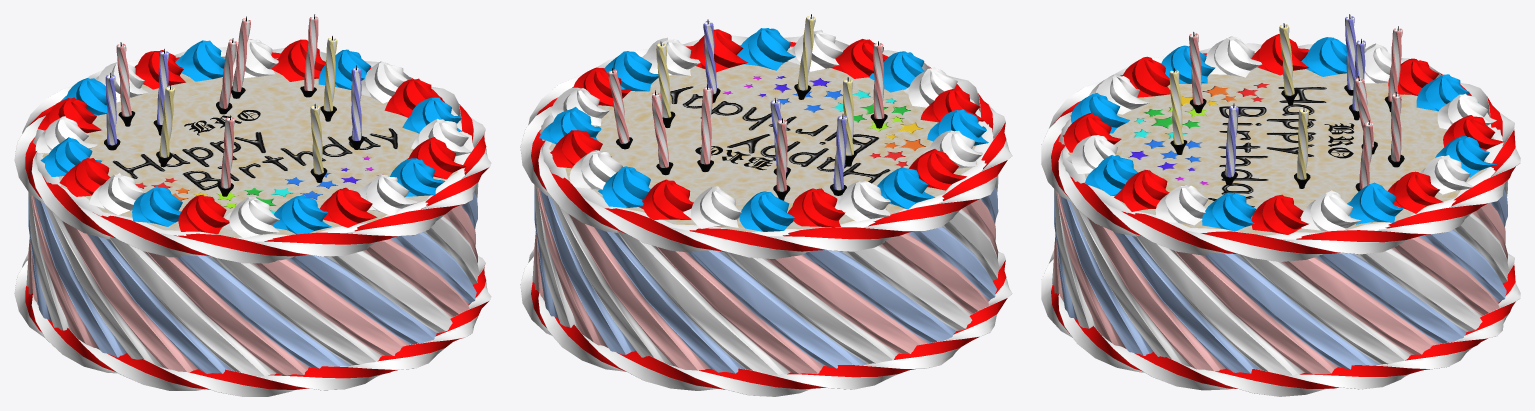
Rendered from bdaycake_uncompressed.gltf.
3 renders of one model, left to right at view 1: azimuth 30°, elevation 25°; view 2: azimuth 150°, elevation 25°; view 3: azimuth 270°, elevation 25°, orthographic. The views are drawn at different scales.
Parts seen in each view (by area): view 1: 10868_birthday-cake_v3; view 2: 10868_birthday-cake_v3; view 3: 10868_birthday-cake_v3.
Part boxes in pixels (bbox=[...]): 10868_birthday-cake_v3: bbox=[14, 14, 491, 396]; 10868_birthday-cake_v3: bbox=[520, 14, 1012, 396]; 10868_birthday-cake_v3: bbox=[1041, 14, 1520, 396].
Bounding box in the file's own units: 16.67 × 9.09 × 16.66.
Materials: 12 (1 with a texture image).
